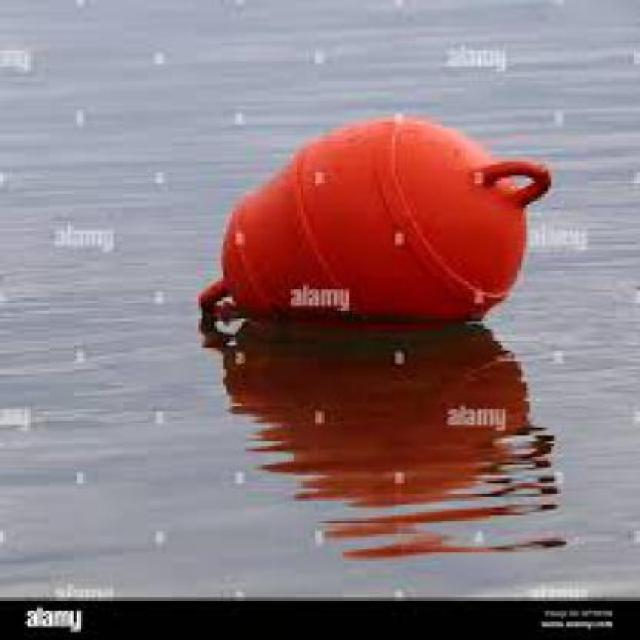buoy: (179, 83, 543, 341)
